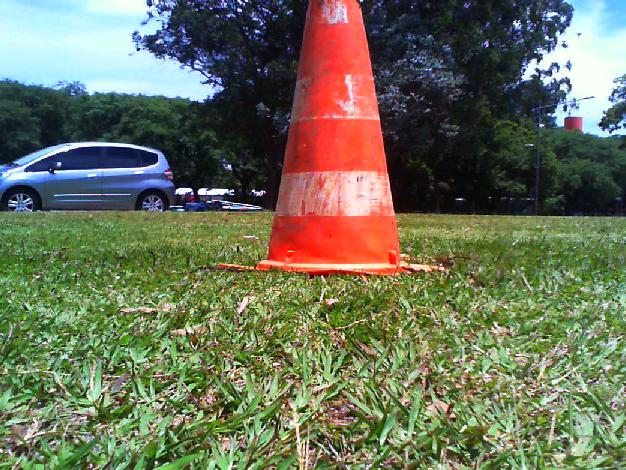0 cone: (218, 0, 446, 273)
